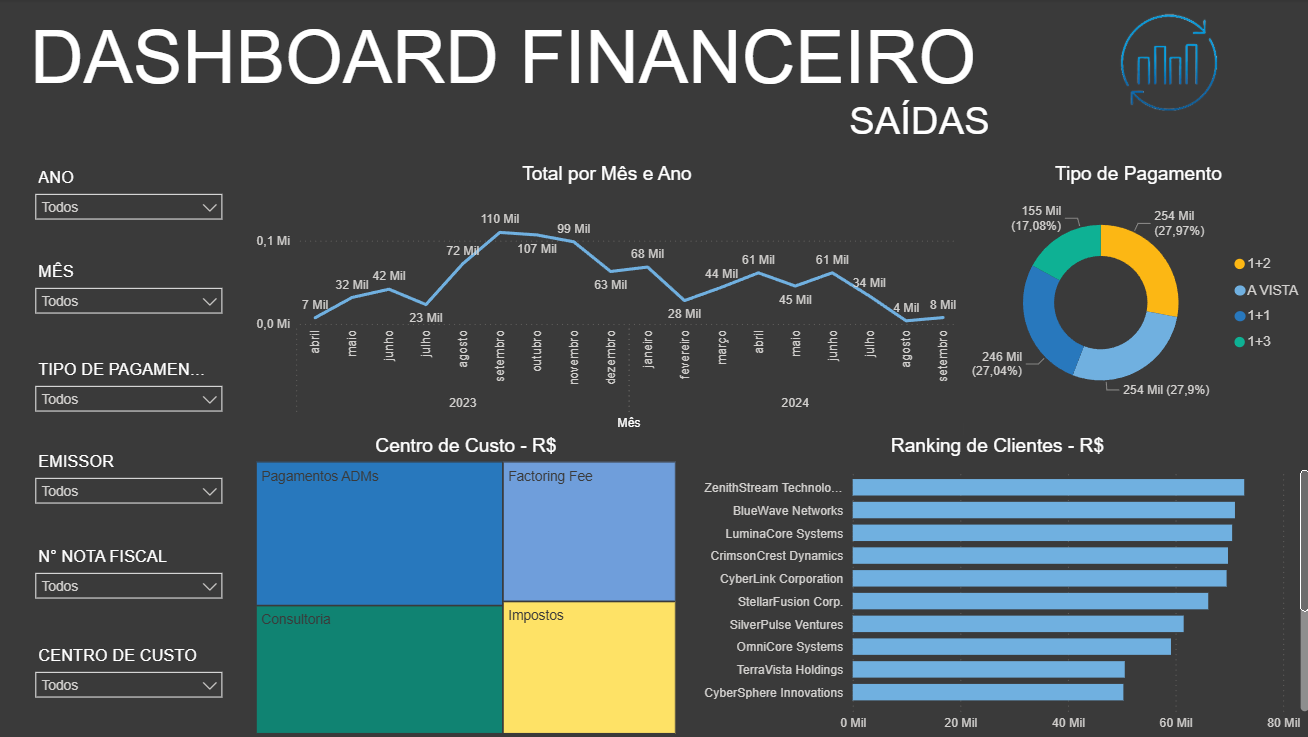

The dashboard page shown, as its layout file describes it:
{"tool":"powerbi","page":{"name":"Saídas","canvas":[1280,720],"ordinal":1},"visuals":[{"type":"slicer","fields":{"Values":["BASE.ANO"]},"box":[26.3,159.5,202.3,73.9],"z":0},{"type":"slicer","fields":{"Values":["BASE.MÊS"]},"box":[26.3,250.9,202.3,68.1],"z":1000},{"type":"textbox","box":[26.3,10.7,1001.8,102.1],"z":2000},{"type":"slicer","fields":{"Values":["BASE.EMISSOR"]},"box":[26.3,435.7,202.3,64.2],"z":3000},{"type":"slicer","fields":{"Values":["BASE.N° NOTA FISCAL"]},"box":[26.3,528.1,202.3,72.9],"z":4000},{"type":"slicer","fields":{"Values":["BASE.TIPO DE PAGAMENTO"]},"box":[26.3,346.3,202.3,64.2],"z":5000},{"type":"barChart","title":"Ranking de Clientes - R$","fields":{"Category":["BASE.EMISSOR"],"Y":["Sum(BASE.R$ TOTAL)"]},"box":[664.3,424.1,615.7,295.7],"z":6000},{"type":"slicer","fields":{"Values":["BASE.CENTRO DE CUSTO"]},"box":[26.3,624.4,202.3,72.9],"z":7000},{"type":"image","box":[1029.1,0,219.8,124.5],"z":8000},{"type":"textbox","box":[822.9,92.4,278.2,67.1],"z":9000},{"type":"treemap","title":"Centro de Custo - R$","fields":{"Values":["Sum(BASE.R$ TOTAL)"],"Group":["BASE.CENTRO DE CUSTO"]},"box":[246.1,424.1,418.2,295.7],"z":10000},{"type":"donutChart","title":"Tipo de Pagamento","fields":{"Y":["Sum(BASE.R$ TOTAL)"],"Category":["BASE.TIPO DE PAGAMENTO"]},"box":[938.6,159.5,341.4,250.9],"z":11000},{"type":"lineChart","title":"Total por Mês e Ano","fields":{"Y":["Sum(BASE.R$ TOTAL)"],"Category":["BASE.DATA DE EMISSÃO.Variation.Hierarquia de datas.Ano","BASE.DATA DE EMISSÃO.Variation.Hierarquia de datas.Mês"]},"box":[246.1,159.5,692.5,264.6],"z":12000}]}

Visuals, with their boxes in screenshot pixels (x1, y1, x2, y2), scaled from the page's 1280x720 canvas onto the 1308x737 screenshot:
slicer - BASE.ANO: locate(27, 163, 234, 239)
slicer - BASE.MÊS: locate(27, 257, 234, 327)
textbox: locate(27, 11, 1051, 115)
slicer - BASE.EMISSOR: locate(27, 446, 234, 512)
slicer - BASE.N° NOTA FISCAL: locate(27, 541, 234, 615)
slicer - BASE.TIPO DE PAGAMENTO: locate(27, 354, 234, 420)
"Ranking de Clientes - R$" barChart: locate(679, 434, 1307, 736)
slicer - BASE.CENTRO DE CUSTO: locate(27, 639, 234, 714)
image: locate(1052, 0, 1276, 127)
textbox: locate(841, 95, 1125, 163)
"Centro de Custo - R$" treemap: locate(251, 434, 679, 736)
"Tipo de Pagamento" donutChart: locate(959, 163, 1307, 420)
"Total por Mês e Ano" lineChart: locate(251, 163, 959, 434)
